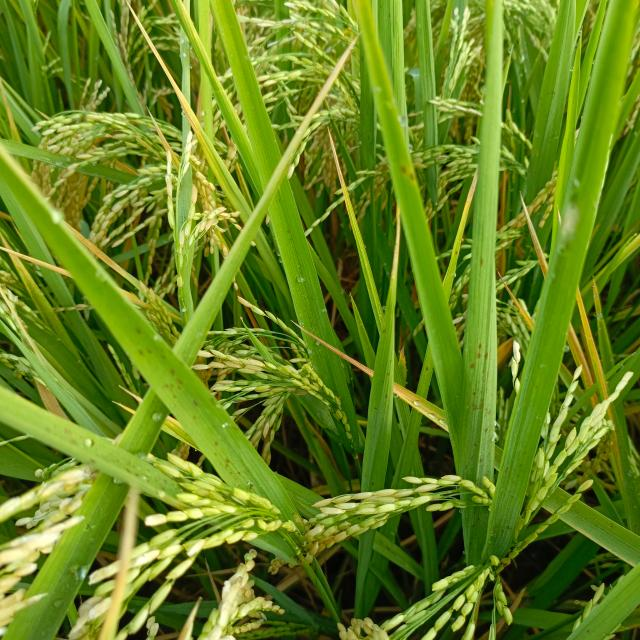insects: (395, 158, 410, 179), (404, 170, 420, 185), (208, 438, 224, 450), (475, 255, 486, 272), (167, 366, 180, 380), (471, 352, 492, 360), (174, 377, 186, 391), (136, 346, 147, 361), (132, 324, 144, 336), (190, 396, 200, 410), (465, 361, 477, 372), (144, 345, 154, 357), (475, 342, 485, 351), (423, 364, 429, 375), (384, 393, 391, 401)
